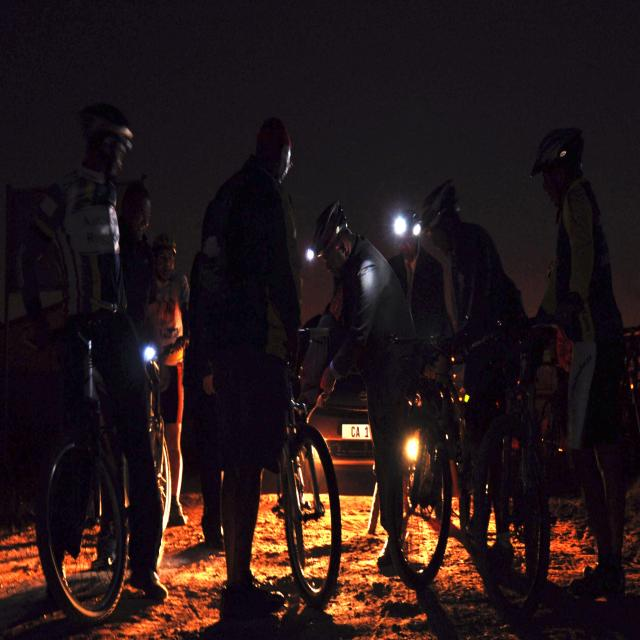Bicycle: (256, 325, 346, 615), (60, 373, 158, 638), (370, 352, 450, 603)
People: (531, 95, 635, 597), (416, 167, 507, 445), (49, 89, 155, 322), (322, 161, 411, 392), (240, 92, 314, 344), (155, 201, 219, 421), (110, 178, 164, 376)
